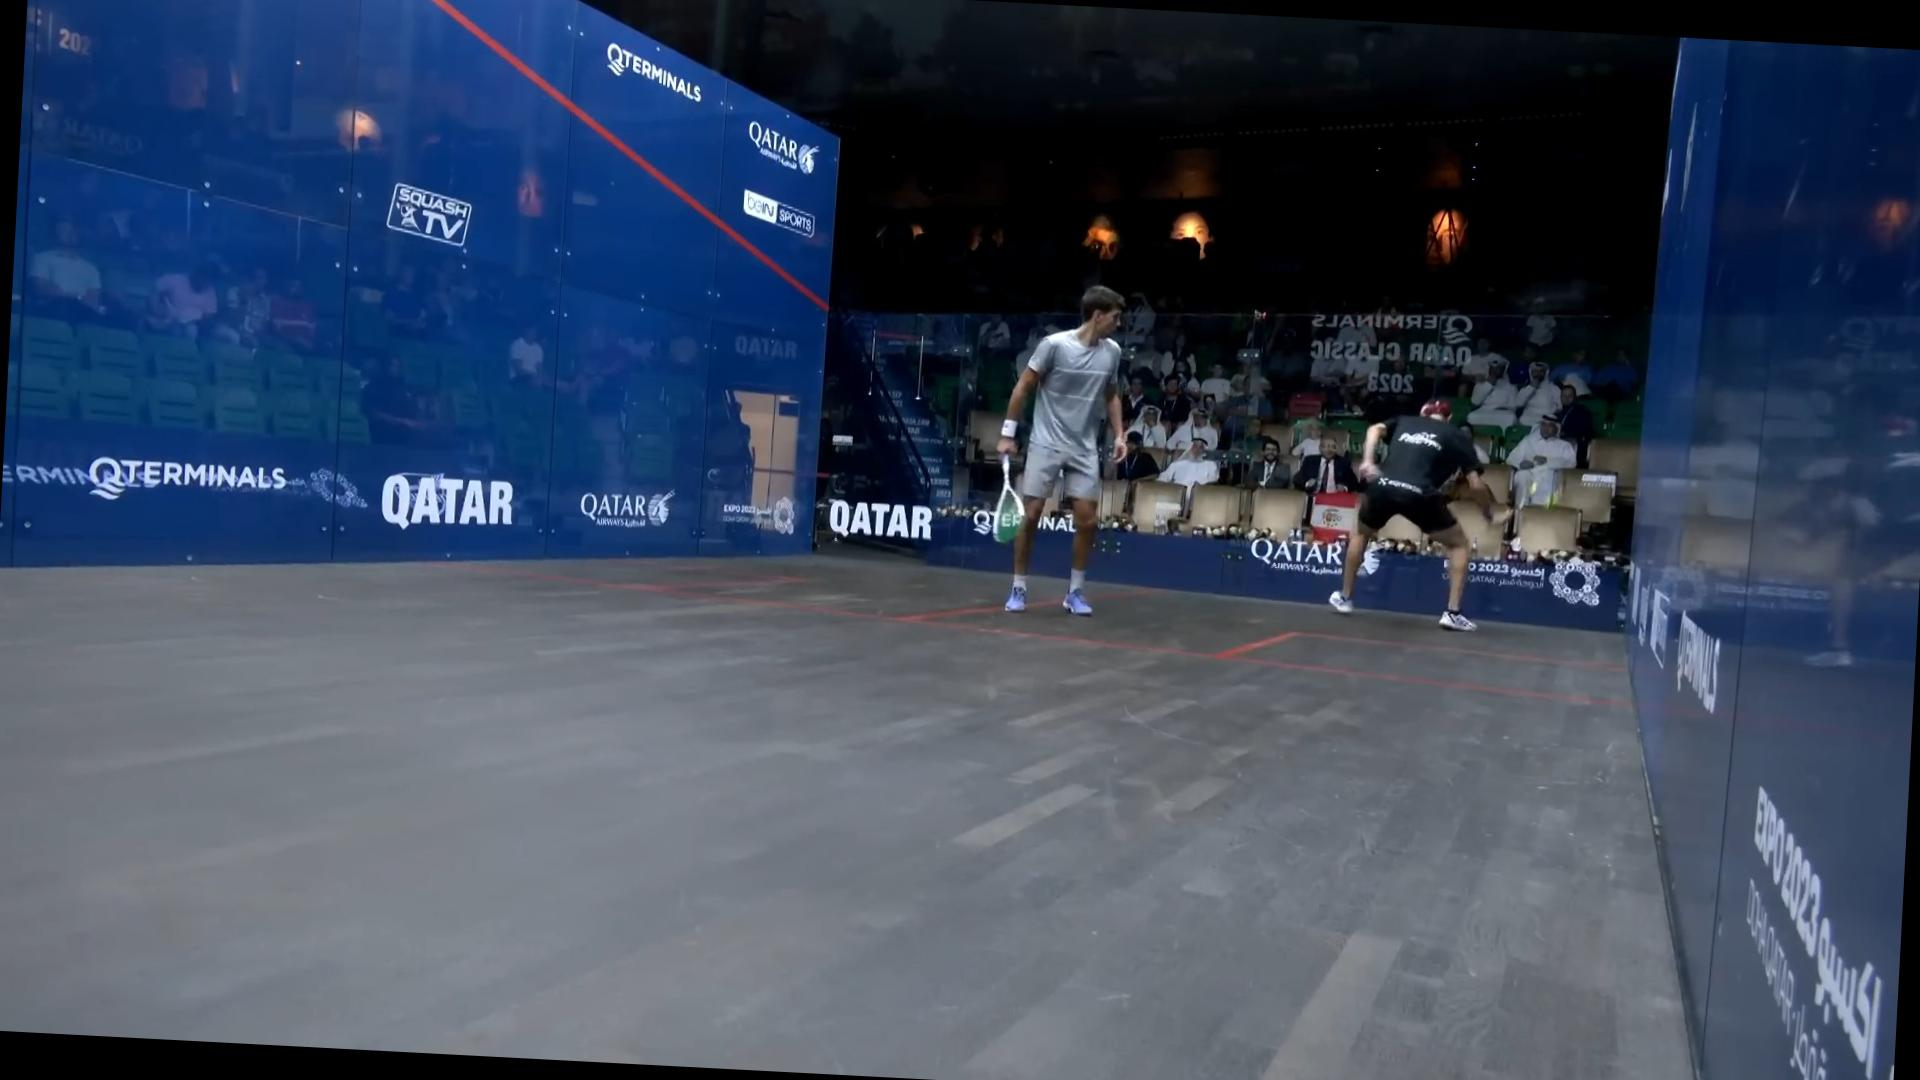Racket: (992, 447, 1035, 549)
